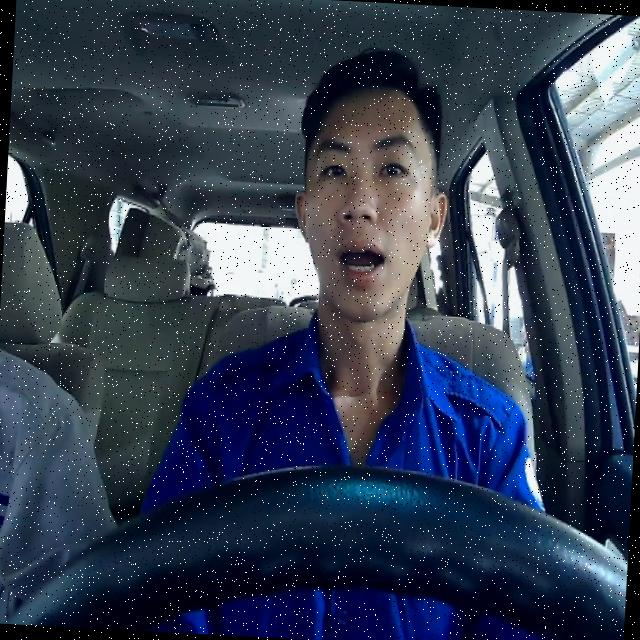yarning: (288, 83, 453, 325)
